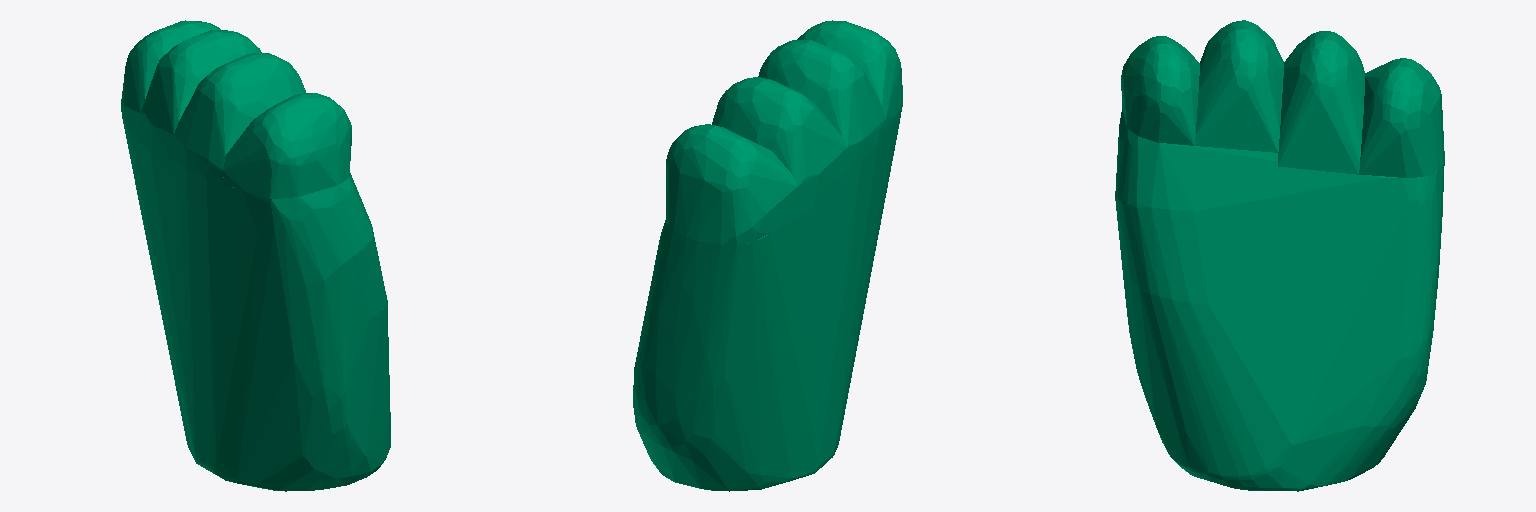
URDF robot description (ability_hand):
<robot name="ability_hand">
  <link name="base_link"/>
  <joint name="base_joint" type="fixed">
    <parent link="base_link"/>
    <child link="base"/>
    <origin xyz="0 0 0" rpy="0 0 -1.57079"/>
  </joint>
  <link name="base">
    <visual name="wrist_mesh">
      <origin rpy="0 0 0" xyz="0 0 0"/>
      <geometry>
        <mesh filename="meshes/visual/wristmesh.obj"/>
      </geometry>
    </visual>
    <collision>
      <origin xyz="0 0 0" rpy="0 0 0"/>
      <geometry>
        <mesh filename="meshes/collision/wristmesh_C.obj"/>
      </geometry>
    </collision>
    <inertial>  <!-- the mass and inertia here are NOT correct -->
      <mass value="0.200"/>
      <inertia ixx="978.26e-6" ixy="87.34e-6" ixz="322.99e-6" iyy="1244.78e-6" iyz="244.74e-6" izz="456.22e-6"/>
      <origin xyz="22.41911e-3 -0.15798201e-3 -0.01319866e-3" rpy="0 0 0"/>
    </inertial>
  </link>
  <joint name="wrist2thumb" type="fixed">
    <parent link="base"/>
    <child link="thumb_base"/>
    <origin xyz="24.0476665e-3 3.78124745e-3 32.32964923e-3" rpy="3.14148426 0.08848813 3.14036612"/>
  </joint>
  <link name="thumb_base">
    <inertial>
      <mass value="0.400"/>
      <inertia ixx="978.26e-6" ixy="87.34e-6" ixz="322.99e-6" iyy="1244.78e-6" iyz="244.74e-6" izz="456.22e-6"/>
      <origin xyz="22.41911e-3 -0.15798201e-3 -0.01319866e-3" rpy="0 0 0"/>
    </inertial>
    <visual name="palm_mesh">
      <origin rpy="0 0 0" xyz="0 0 0"/>
      <geometry>
        <mesh filename="meshes/visual/FB_palm_ref.obj"/>
      </geometry>
    </visual>
    <collision>                                  <!-- thumb_base -->
      <origin xyz="0 0 0" rpy="0 0 0"/>
      <geometry>
        <mesh filename="meshes/collision/FB_palm_ref.obj"/>
      </geometry>
    </collision>
  </link>
  <link name="thumb_L1">
    <inertial>
      <mass value="0.00268342"/>
      <inertia ixx="0.16931e-4" ixy="-0.076214e-4" ixz="-0.16959148e-4" iyy="0.77769934e-4" iyz="0.0156622e-4" izz="0.7249122e-4"/>
      <origin rpy="0 0 0" xyz="14.606e-3 -1.890854e-3 -3.1155356e-3"/>
    </inertial>
    <visual name="thumb_mesh_1">
      <origin xyz="27.8283501e-3 0 -14.7507000e-3" rpy="4.450589592585541 0 0"/>
      <geometry>
        <mesh filename="meshes/visual/thumb-F1.obj"/>
      </geometry>
    </visual>
    <collision>                            <!-- thumb_L1 -->
      <origin xyz="27.8283501e-3 0 -14.7507000e-3" rpy="4.450589592585541 0 0"/>
      <geometry>
        <mesh filename="meshes/collision/thumb-F1_C.obj"/>
      </geometry>
    </collision>
  </link>
  <link name="thumb_L2">
    <inertial>
      <mass value="0.0055"/>
      <inertia ixx="4.4789082e-4" ixy="4.4789082e-4" ixz="-0.62144934e-4" iyy="15.600996e-4" iyz="-0.07466143e-4" izz="17.908554e-4"/>
      <origin rpy="0 0 0" xyz="30.020522e-3 5.59476e-3 -4.1504356e-3"/>
    </inertial>
    <visual name="thumb_mesh_2">
      <origin xyz="65.18669e-3 23.34021e-3 -3.93483e-3" rpy="3.141592 0 0.343830"/>
      <geometry>
        <mesh filename="meshes/visual/thumb-F2.obj"/>
      </geometry>
    </visual>
    <collision>                            <!-- thumb_L2 -->
      <origin xyz="65.18669e-3 23.34021e-3 -3.93483e-3" rpy="3.141592 0 0.343830"/>
      <geometry>
        <mesh filename="meshes/collision/thumb-F2_C.obj"/>
      </geometry>
    </collision>
  </link>
  <joint name="thumb_q1" type="revolute">
    <parent link="thumb_base"/>
    <child link="thumb_L1"/>
    <origin xyz="0 0 0" rpy="0 0 3.330437"/>
    <axis xyz="0 0 1"/>
    <limit lower="-2.0943951" upper="0" effort="1.2" velocity="40.338888721"/>    <!-- angles in rad, efforts in N-m, velocity in rad/s -->
    <dynamics damping="0.001" friction="0.001"/>  <!-- Friction coefficient is not from quantitative measurement -->
  </joint>
  <joint name="thumb_q2" type="revolute">
    <parent link="thumb_L1"/>
    <child link="thumb_L2"/>
    <origin xyz="27.8283501e-3 0 -14.7507000e-3" rpy="4.450589592585541 0 0"/>
    <axis xyz="0 0 1"/>
    <limit lower="0" upper="2.0943951" effort="6.0" velocity="8.0677777442"/>    <!-- angles in rad, efforts in N-m, velocity in rad/s -->
    <dynamics damping="0.001" friction="0.001"/>  <!-- Friction coefficient is not from quantitative measurement -->
  </joint>
  <link name="thumb_tip"/>
  <joint name="thumb_tip_joint" type="fixed">
    <parent link="thumb_L2"/>
    <child link="thumb_tip"/>
    <origin rpy="0 0 0" xyz="0.065 0.016 0"/>
  </joint>
  <link name="index_L1">
    <inertial>
      <mass value="0.00635888"/>
      <inertia ixx="0.29766e-4" ixy="-0.06447133e-4" ixz="-0.00423315e-4" iyy="3.6947967e-4" iyz="0.00083028e-4" izz="3.8176336e-4"/>
      <origin xyz="22.41911e-3 -0.15798201e-3 -0.01319866e-3" rpy="0 0 0"/>
    </inertial>
    <visual name="index_mesh_1">
      <origin xyz="38.472723e-3 3.257695e-3 0.000000" rpy="0 0 0.084474"/>
      <geometry>
        <mesh filename="meshes/visual/idx-F1.obj"/>
      </geometry>
    </visual>
    <collision>                                  <!-- index_L1 -->
      <origin xyz="0.036 -0.00175 0" rpy="0 0 0"/>
      <geometry>
        <sphere radius="0.0085"/>
      </geometry>
    </collision>
    <collision>
      <origin xyz="0.019 -0.0045 0" rpy="0 0 0.0845"/>
      <geometry>
        <box size="0.028 0.012 0.016"/>
      </geometry>
    </collision>
    <collision>
      <origin xyz="0.018 0.006 0" rpy="0 0 0.0845"/>
      <geometry>
        <box size="0.02 0.01 0.016"/>
      </geometry>
    </collision>
    <collision>
      <origin xyz="-0.001 0 0.007" rpy="0 0 0.0845"/>
      <geometry>
        <box size="0.012 0.012 0.002"/>
      </geometry>
    </collision>
    <collision>
      <origin xyz="-0.001 0 -0.007" rpy="0 0 0.0845"/>
      <geometry>
        <box size="0.012 0.012 0.002"/>
      </geometry>
    </collision>
  </link>
  <link name="index_L2">
    <inertial>
      <mass value="0.00645"/>
      <inertia ixx="0.82671e-4" ixy="-1.08876e-4" ixz="-0.00037e-4" iyy="1.98028e-4" iyz="0.00081e-4" izz="2.64638e-4"/>
      <origin rpy="0 0 0" xyz="13.36818e-3 -8.75392e-3 -0.02886e-3"/>
    </inertial>
    <visual name="index_mesh_2">
      <origin rpy="0 0 0" xyz="9.1241e-3 0 0"/>
      <geometry>
        <mesh filename="meshes/visual/idx-F2.obj"/>
      </geometry>
    </visual>
    <collision>                            <!-- index_L2 -->
      <origin xyz="0 0 0" rpy="0 0 0"/>
      <geometry>
        <mesh filename="meshes/collision/idx-F2_C.obj"/>
      </geometry>
    </collision>
    <collision>
      <origin xyz="0.03 -0.016 0" rpy="0 0 0"/>
      <geometry>
        <sphere radius="0.007"/>
      </geometry>
    </collision>
  </link>
  <joint name="index_q1" type="revolute">
    <parent link="thumb_base"/>
    <child link="index_L1"/>
    <origin xyz="-9.49e-3 -13.04e-3 -62.95e-3" rpy="-1.982050 1.284473 -2.090591"/>
    <axis xyz="0 0 1"/>
    <limit lower="0" upper="2.0943951" effort="6.0" velocity="8.0677777442"/>    <!-- angles in rad, efforts in N-m, velocity in rad/s -->
    <dynamics damping="0.001" friction="0.001"/>  <!-- Friction coefficient is not from quantitative measurement -->
  </joint>
  <joint name="index_q2" type="revolute">
    <parent link="index_L1"/>
    <child link="index_L2"/>
    <origin xyz="38.472723e-3 3.257695e-3 0.000000e-3" rpy="0 0 0.084474"/>
    <axis xyz="0 0 1"/>
    <limit lower="0.0" upper="2.6586" effort="6.0" velocity="8.0677777442"/>    <!-- angles in rad, efforts in N-m, velocity in rad/s -->
    <dynamics damping="0.001" friction="0.001"/>  <!-- Friction coefficient is not from quantitative measurement -->
    <mimic joint="index_q1" multiplier="1.05851325" offset="0.72349796"/>
  </joint>
  <link name="index_tip"/>
  <joint name="index_tip_joint" type="fixed">
    <parent link="index_L2"/>
    <child link="index_tip"/>
    <origin rpy="0 0 0" xyz="0.035  -0.018 0"/>
  </joint>
  <link name="middle_L1">
    <inertial>
      <mass value="0.00635888"/>
      <inertia ixx="0.29766e-4" ixy="-0.06447133e-4" ixz="-0.00423315e-4" iyy="3.6947967e-4" iyz="0.00083028e-4" izz="3.8176336e-4"/>
      <origin xyz="22.41911e-3 -0.15798201e-3 -0.01319866e-3" rpy="0 0 0"/>
    </inertial>
    <visual name="middle_mesh_1">
      <origin xyz="38.472723e-3 3.257695e-3 0.000000" rpy="0 0 0.084474"/>
      <geometry>
        <mesh filename="meshes/visual/idx-F1.obj"/>
      </geometry>
    </visual>
    <collision>                                  <!-- middle_L1 -->
      <origin xyz="0.036 -0.00175 0" rpy="0 0 0"/>
      <geometry>
        <sphere radius="0.0085"/>
      </geometry>
    </collision>
    <collision>
      <origin xyz="0.019 -0.0045 0" rpy="0 0 0.0845"/>
      <geometry>
        <box size="0.028 0.012 0.016"/>
      </geometry>
    </collision>
    <collision>
      <origin xyz="0.018 0.006 0" rpy="0 0 0.0845"/>
      <geometry>
        <box size="0.02 0.01 0.016"/>
      </geometry>
    </collision>
    <collision>
      <origin xyz="-0.001 0 0.007" rpy="0 0 0.0845"/>
      <geometry>
        <box size="0.012 0.012 0.002"/>
      </geometry>
    </collision>
    <collision>
      <origin xyz="-0.001 0 -0.007" rpy="0 0 0.0845"/>
      <geometry>
        <box size="0.012 0.012 0.002"/>
      </geometry>
    </collision>
  </link>
  <link name="middle_L2">
    <inertial>
      <mass value="0.00645"/>
      <inertia ixx="0.82671e-4" ixy="-1.08876e-4" ixz="-0.00037e-4" iyy="1.98028e-4" iyz="0.00081e-4" izz="2.64638e-4"/>
      <origin rpy="0 0 0" xyz="13.36818e-3 -8.75392e-3 -0.02886e-3"/>
    </inertial>
    <visual name="middle_mesh_2">
      <origin rpy="0 0 0" xyz="9.1241e-3 0 0"/>
      <geometry>
        <mesh filename="meshes/visual/idx-F2.obj"/>
      </geometry>
    </visual>
    <collision>                            <!-- middle_L2 -->
      <origin xyz="0 0 0" rpy="0 0 0"/>
      <geometry>
        <mesh filename="meshes/collision/idx-F2_C.obj"/>
      </geometry>
    </collision>
    <collision>
      <origin xyz="0.03 -0.016 0" rpy="0 0 0"/>
      <geometry>
        <sphere radius="0.007"/>
      </geometry>
    </collision>
  </link>
  <joint name="middle_q1" type="revolute">
    <parent link="thumb_base"/>
    <child link="middle_L1"/>
    <origin xyz="9.653191e-3 -15.310271e-3 -67.853949e-3" rpy="-1.860531 1.308458 -1.896217"/>
    <limit lower="0" upper="2.0943951" effort="6.0" velocity="8.0677777442"/>    <!-- angles in rad, efforts in N-m, velocity in rad/s -->
    <dynamics damping="0.001" friction="0.001"/>  <!-- Friction coefficient is not from quantitative measurement -->
    <axis xyz="0 0 1"/>
  </joint>
  <joint name="middle_q2" type="revolute">
    <parent link="middle_L1"/>
    <child link="middle_L2"/>
    <origin xyz="38.472723e-3 3.257695e-3 0.000000" rpy="0 0 0.084474"/>
    <axis xyz="0 0 1"/>
    <limit lower="0.0" upper="2.6586" effort="6.0" velocity="8.0677777442"/>    <!-- angles in rad, efforts in N-m, velocity in rad/s -->
    <dynamics damping="0.001" friction="0.001"/>  <!-- Friction coefficient is not from quantitative measurement -->
    <mimic joint="middle_q1" multiplier="1.05851325" offset="0.72349796"/>
  </joint>
  <link name="middle_tip"/>
  <joint name="middle_tip_joint" type="fixed">
    <parent link="middle_L2"/>
    <child link="middle_tip"/>
    <origin rpy="0 0 0" xyz="0.035  -0.018 0"/>
  </joint>
  <link name="ring_L1">
    <inertial>
      <mass value="0.00635888"/>
      <inertia ixx="0.29766e-4" ixy="-0.06447133e-4" ixz="-0.00423315e-4" iyy="3.6947967e-4" iyz="0.00083028e-4" izz="3.8176336e-4"/>
      <origin xyz="22.41911e-3 -0.15798201e-3 -0.01319866e-3" rpy="0 0 0"/>
    </inertial>
    <visual name="ring_mesh_1">
      <origin xyz="38.472723e-3 3.257695e-3 0.000000" rpy="0 0 0.084474"/>
      <geometry>
        <mesh filename="meshes/visual/idx-F1.obj"/>
      </geometry>
    </visual>
    <collision>                                  <!-- ring_L1 -->
      <origin xyz="0.036 -0.00175 0" rpy="0 0 0"/>
      <geometry>
        <sphere radius="0.0085"/>
      </geometry>
    </collision>
    <collision>
      <origin xyz="0.019 -0.0045 0" rpy="0 0 0.0845"/>
      <geometry>
        <box size="0.028 0.012 0.016"/>
      </geometry>
    </collision>
    <collision>
      <origin xyz="0.018 0.006 0" rpy="0 0 0.0845"/>
      <geometry>
        <box size="0.02 0.01 0.016"/>
      </geometry>
    </collision>
    <collision>
      <origin xyz="-0.001 0 0.007" rpy="0 0 0.0845"/>
      <geometry>
        <box size="0.012 0.012 0.002"/>
      </geometry>
    </collision>
    <collision>
      <origin xyz="-0.001 0 -0.007" rpy="0 0 0.0845"/>
      <geometry>
        <box size="0.012 0.012 0.002"/>
      </geometry>
    </collision>
  </link>
  <link name="ring_L2">
    <inertial>
      <mass value="0.00645"/>
      <inertia ixx="0.82671e-4" ixy="-1.08876e-4" ixz="-0.00037e-4" iyy="1.98028e-4" iyz="0.00081e-4" izz="2.64638e-4"/>
      <origin rpy="0 0 0" xyz="13.36818e-3 -8.75392e-3 -0.02886e-3"/>
    </inertial>
    <visual name="ring_mesh_2">
      <origin rpy="0 0 0" xyz="9.1241e-3 0 0"/>
      <geometry>
        <mesh filename="meshes/visual/idx-F2.obj"/>
      </geometry>
    </visual>
    <collision>                            <!-- ring_L2 -->
      <origin xyz="0 0 0" rpy="0 0 0"/>
      <geometry>
        <mesh filename="meshes/collision/idx-F2_C.obj"/>
      </geometry>
    </collision>
    <collision>
      <origin xyz="0.03 -0.016 0" rpy="0 0 0"/>
      <geometry>
        <sphere radius="0.007"/>
      </geometry>
    </collision>
  </link>
  <joint name="ring_q1" type="revolute">
    <parent link="thumb_base"/>
    <child link="ring_L1"/>
    <origin xyz="29.954260e-3 -14.212492e-3 -67.286105e-3" rpy="-1.716598 1.321452 -1.675862"/>
    <limit lower="0" upper="2.0943951" effort="6.0" velocity="8.0677777442"/>    <!-- angles in rad, efforts in N-m, velocity in rad/s -->
    <dynamics damping="0.001" friction="0.001"/>  <!-- Friction coefficient is not from quantitative measurement -->
    <axis xyz="0 0 1"/>
  </joint>
  <joint name="ring_q2" type="revolute">
    <parent link="ring_L1"/>
    <child link="ring_L2"/>
    <origin xyz="38.472723e-3 3.257695e-3 0.000000" rpy="0 0 0.084474"/>
    <axis xyz="0 0 1"/>
    <limit lower="0.0" upper="2.6586" effort="6.0" velocity="8.0677777442"/>    <!-- angles in rad, efforts in N-m, velocity in rad/s -->
    <dynamics damping="0.001" friction="0.001"/>  <!-- Friction coefficient is not from quantitative measurement -->
    <mimic joint="ring_q1" multiplier="1.05851325" offset="0.72349796"/>
  </joint>
  <link name="ring_tip"/>
  <joint name="ring_tip_joint" type="fixed">
    <parent link="ring_L2"/>
    <child link="ring_tip"/>
    <origin rpy="0 0 0" xyz="0.035  -0.018 0"/>
  </joint>
  <link name="pinky_L1">
    <inertial>
      <mass value="0.00635888"/>
      <inertia ixx="0.29766e-4" ixy="-0.06447133e-4" ixz="-0.00423315e-4" iyy="3.6947967e-4" iyz="0.00083028e-4" izz="3.8176336e-4"/>
      <origin xyz="22.41911e-3 -0.15798201e-3 -0.01319866e-3" rpy="0 0 0"/>
    </inertial>
    <visual name="pinky_mesh_1">
      <origin xyz="38.472723e-3 3.257695e-3 0.000000" rpy="0 0 0.084474"/>
      <geometry>
        <mesh filename="meshes/visual/idx-F1.obj"/>
      </geometry>
    </visual>
    <collision>                                  <!-- pinky_L1 -->
      <origin xyz="0.036 -0.00175 0" rpy="0 0 0"/>
      <geometry>
        <sphere radius="0.0085"/>
      </geometry>
    </collision>
    <collision>
      <origin xyz="0.019 -0.0045 0" rpy="0 0 0.0845"/>
      <geometry>
        <box size="0.028 0.012 0.016"/>
      </geometry>
    </collision>
    <collision>
      <origin xyz="0.018 0.006 0" rpy="0 0 0.0845"/>
      <geometry>
        <box size="0.02 0.01 0.016"/>
      </geometry>
    </collision>
    <collision>
      <origin xyz="-0.001 0 0.007" rpy="0 0 0.0845"/>
      <geometry>
        <box size="0.012 0.012 0.002"/>
      </geometry>
    </collision>
    <collision>
      <origin xyz="-0.001 0 -0.007" rpy="0 0 0.0845"/>
      <geometry>
        <box size="0.012 0.012 0.002"/>
      </geometry>
    </collision>
  </link>
  <link name="pinky_L2">
    <inertial>
      <mass value="0.00645"/>
      <inertia ixx="0.82671e-4" ixy="-1.08876e-4" ixz="-0.00037e-4" iyy="1.98028e-4" iyz="0.00081e-4" izz="2.64638e-4"/>
      <origin rpy="0 0 0" xyz="13.36818e-3 -8.75392e-3 -0.02886e-3"/>
    </inertial>
    <visual name="pinky_mesh_2">
      <origin rpy="0 0 0" xyz="9.1241e-3 0 0"/>
      <geometry>
        <mesh filename="meshes/visual/idx-F2.obj"/>
      </geometry>
    </visual>
    <collision>                            <!-- pinky_L2 -->
      <origin xyz="0 0 0" rpy="0 0 0"/>
      <geometry>
        <mesh filename="meshes/collision/idx-F2_C.obj"/>
      </geometry>
    </collision>
    <collision>
      <origin xyz="0.03 -0.016 0" rpy="0 0 0"/>
      <geometry>
        <sphere radius="0.007"/>
      </geometry>
    </collision>
  </link>
  <joint name="pinky_q1" type="revolute">
    <parent link="thumb_base"/>
    <child link="pinky_L1"/>
    <origin xyz="49.521293e-3 -11.004583e-3 -63.029065e-3" rpy="-1.765110 1.322220 -1.658383"/>
    <limit lower="0" upper="2.0943951" effort="6.0" velocity="8.0677777442"/>    <!-- angles in rad, efforts in N-m, velocity in rad/s -->
    <dynamics damping="0.001" friction="0.001"/>  <!-- Friction coefficient is not from quantitative measurement -->
    <axis xyz="0 0 1"/>
  </joint>
  <joint name="pinky_q2" type="revolute">
    <parent link="pinky_L1"/>
    <child link="pinky_L2"/>
    <origin xyz="38.472723e-3 3.257695e-3 0.000000" rpy="0 0 0.084474"/>
    <limit lower="0.0" upper="2.6586" effort="6.0" velocity="8.0677777442"/>    <!-- angles in rad, efforts in N-m, velocity in rad/s -->
    <dynamics damping="0.001" friction="0.001"/>  <!-- Friction coefficient is not from quantitative measurement -->
    <axis xyz="0 0 1"/>
    <mimic joint="pinky_q1" multiplier="1.05851325" offset="0.72349796"/>
  </joint>
  <link name="pinky_tip"/>
  <joint name="pinky_tip_joint" type="fixed">
    <parent link="pinky_L2"/>
    <child link="pinky_tip"/>
    <origin rpy="0 0 0" xyz="0.035  -0.018 0"/>
  </joint>
</robot>

--- What the picture shows (computed from the rendered views, not written in the file) ---
The picture shows the robot from 3 angles, left to right: view 1: azimuth 30°, elevation 25°; view 2: azimuth 150°, elevation 25°; view 3: azimuth 270°, elevation 25°; orthographic projection.
Robot: ability_hand — 18 links, 17 joints (10 revolute, 7 fixed); root link base_link; default pose: every joint at zero.
Visible links, largest first — view 1: thumb_base; view 2: thumb_base; view 3: thumb_base.
Boxes of the visible links, left/top/right/bottom form: thumb_base: left=121, top=20, right=390, bottom=491; thumb_base: left=633, top=20, right=902, bottom=491; thumb_base: left=1115, top=20, right=1444, bottom=491.
Size in the robot's own frame: 0.0553 by 0.083 by 0.112 metres.
1 mesh visuals loaded from 6 distinct referenced files (1 OBJ); not drawn: 11 (reference not matched to a file when rendering).